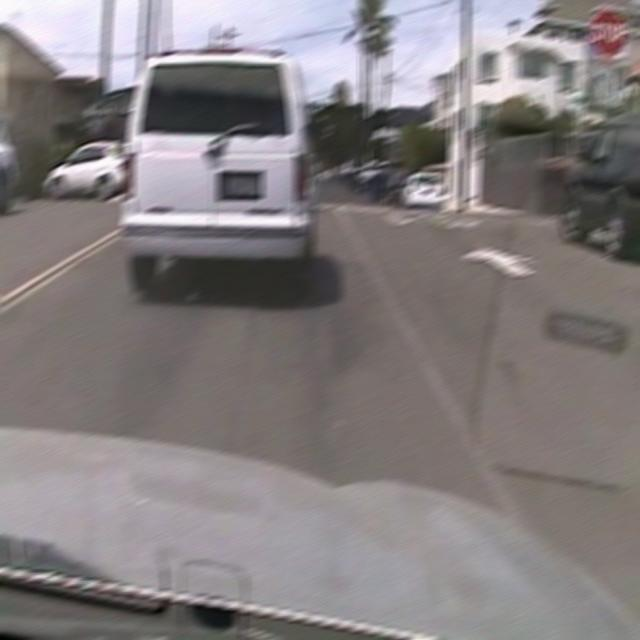stop_sign: (588, 7, 629, 57)
